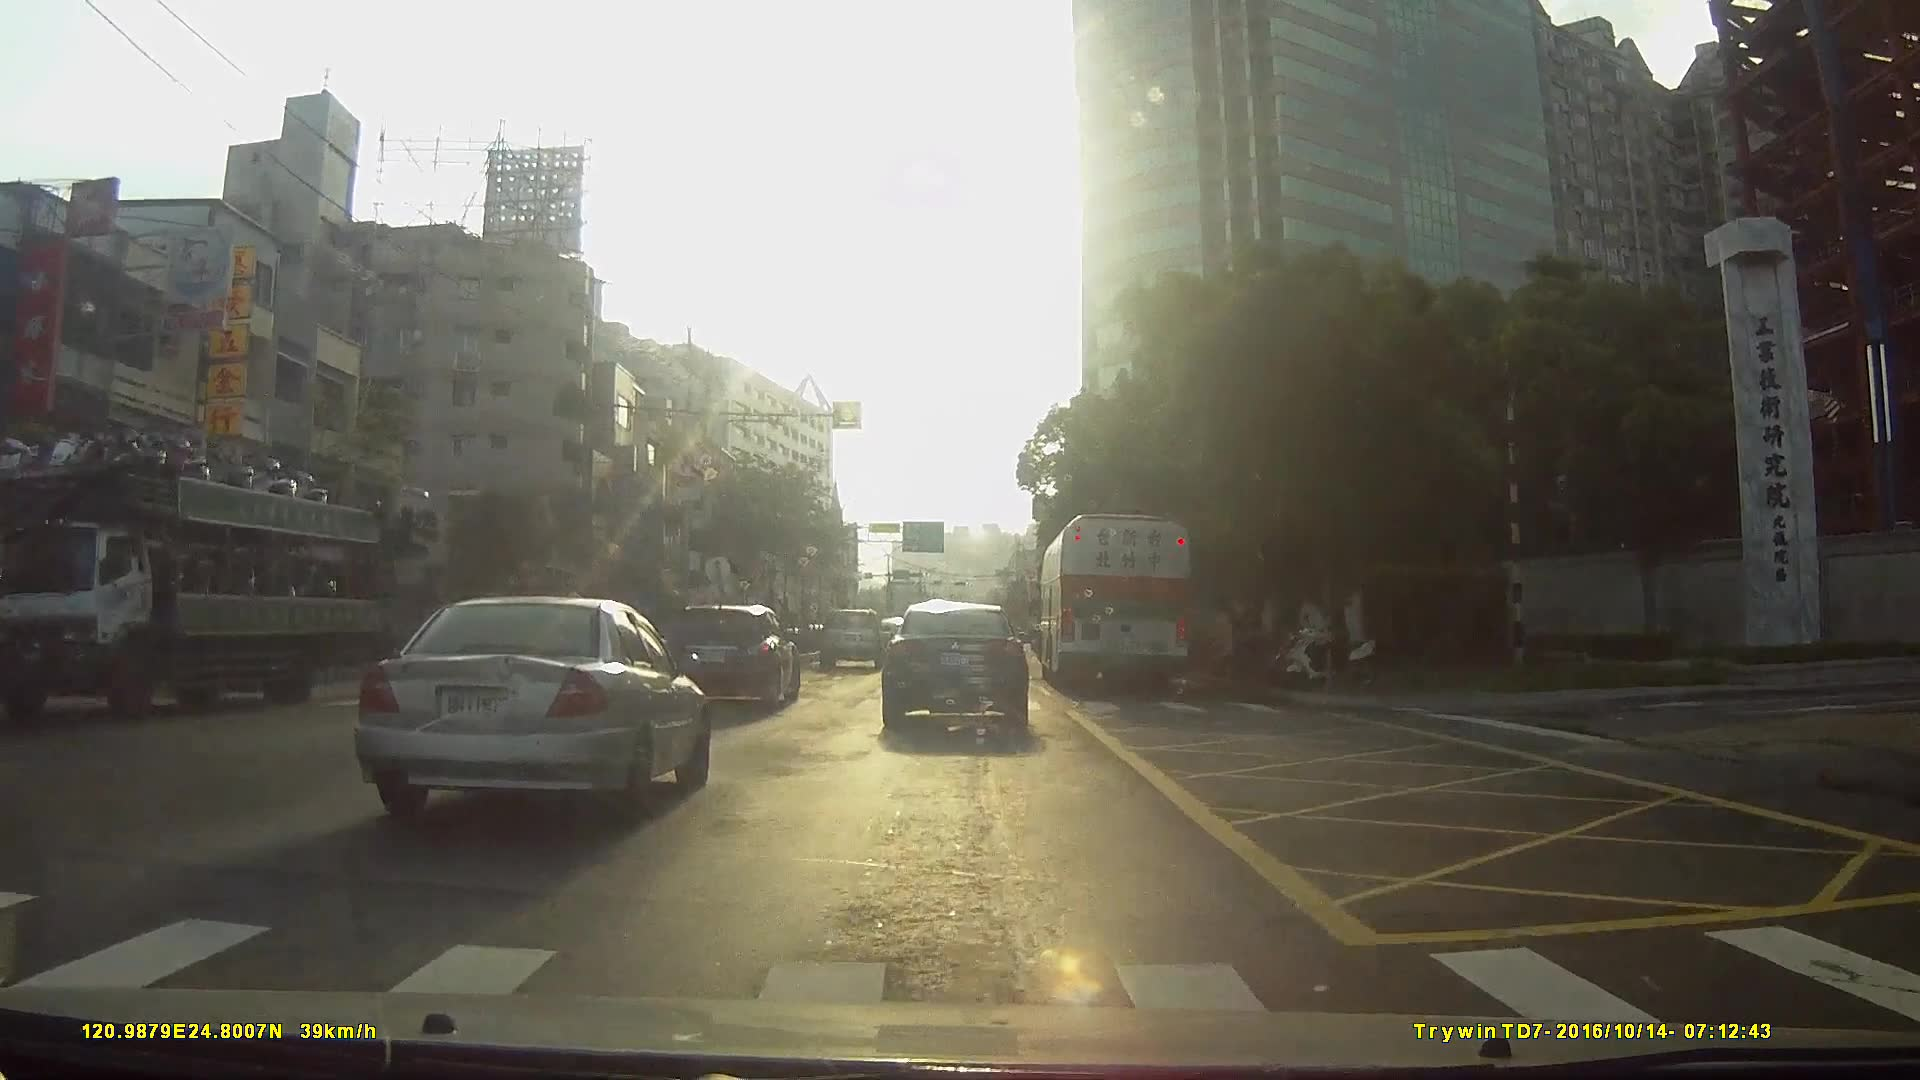vehicle: (18, 410, 373, 724), (347, 593, 707, 825), (1042, 510, 1199, 699), (880, 601, 1031, 738), (665, 604, 800, 712), (818, 611, 889, 675)
